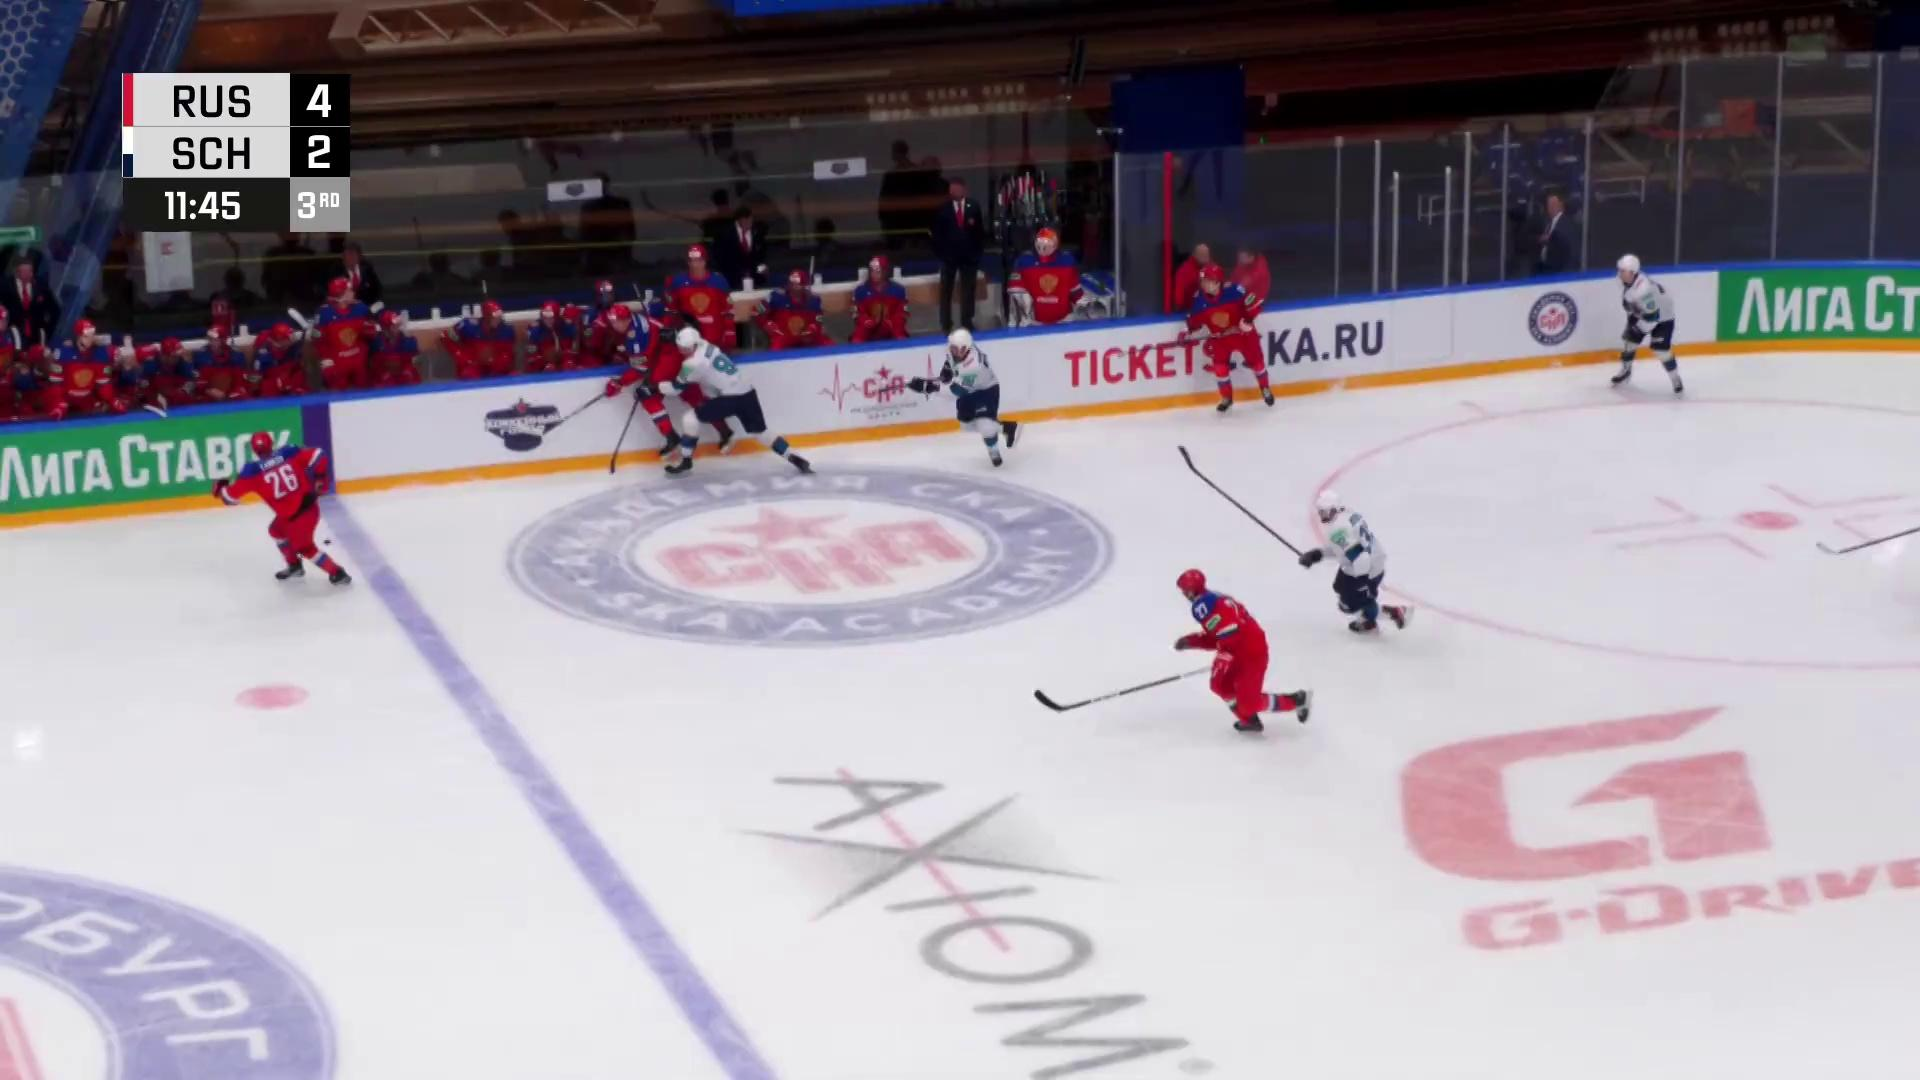ball: (322, 538, 334, 546)
